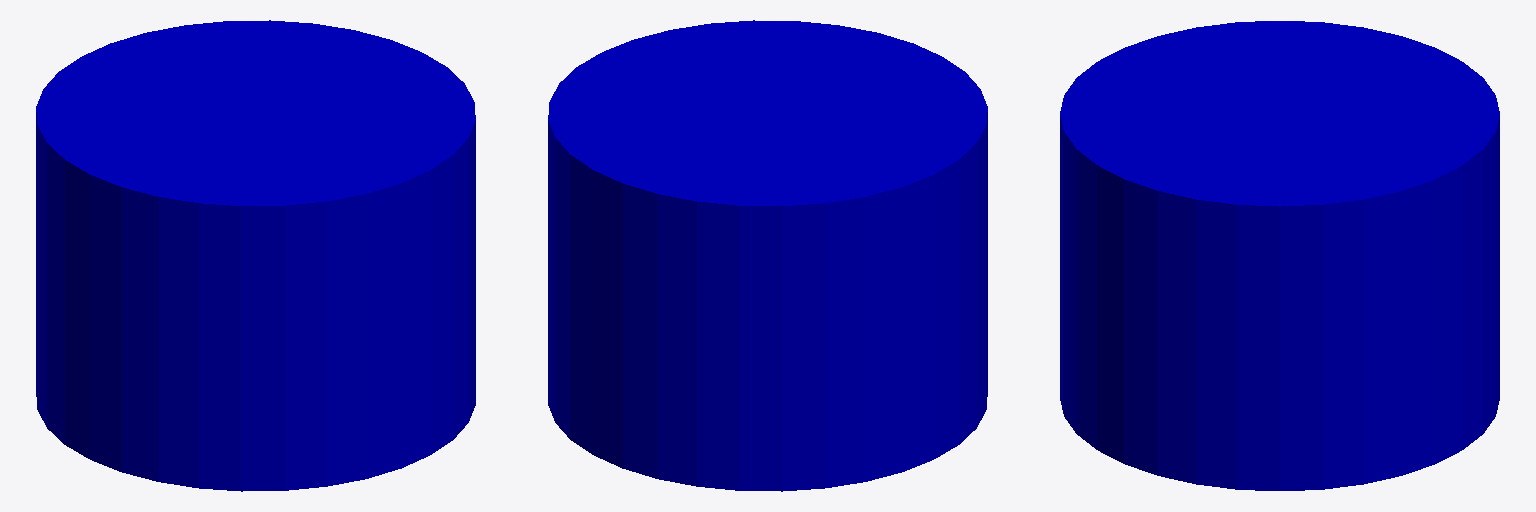
robot.urdf — disc:
<robot name="disc">
    <material name="blue">
        <color rgba="0.0 0.0 0.8 1.0" />
    </material>

    <link name="base_link">
        <contact>
            <lateral_friction value="1.0" />
            <rolling_friction value="0.001" />
            <contact_cfm value="0.0" />
            <contact_erp value="1.0" />
        </contact>
        <inertial>
            <origin rpy="0 0 0" xyz="0.0 0.0 0.0" />
            <mass value=".1" />
            <inertia ixx="1" ixy="0" ixz="0" iyy="1" iyz="0" izz="1" />
        </inertial>
        <visual>
            <origin rpy="0 0 0" xyz="0 0 0" />
            <geometry>
                <cylinder length="0.005" radius="0.0035" />
            </geometry>
            <material name="blue" />
        </visual>
        <collision>
            <origin rpy="0 0 0" xyz="0 0 0" />
            <geometry>
                <cylinder length="0.005" radius="0.0035" />
            </geometry>
        </collision>
    </link>
</robot>

--- Facts derived from the render (not from the file) ---
Views: 3 orthographic renders of the robot side by side, from view 1: azimuth 30°, elevation 25°; view 2: azimuth 150°, elevation 25°; view 3: azimuth 270°, elevation 25°.
Model disc with 1 links and 0 joints (none), rooted at base_link, posed all joints at 0.
Links seen in each view (by area): view 1: base_link; view 2: base_link; view 3: base_link.
Link boxes in pixels (x1=…): base_link: x1=36, y1=20, x2=475, y2=491; base_link: x1=548, y1=20, x2=987, y2=491; base_link: x1=1060, y1=21, x2=1499, y2=490.
Size in the robot's own frame: 0.007 by 0.007 by 0.005 metres.
Geometry: primitives only (box / cylinder / sphere), no mesh files.